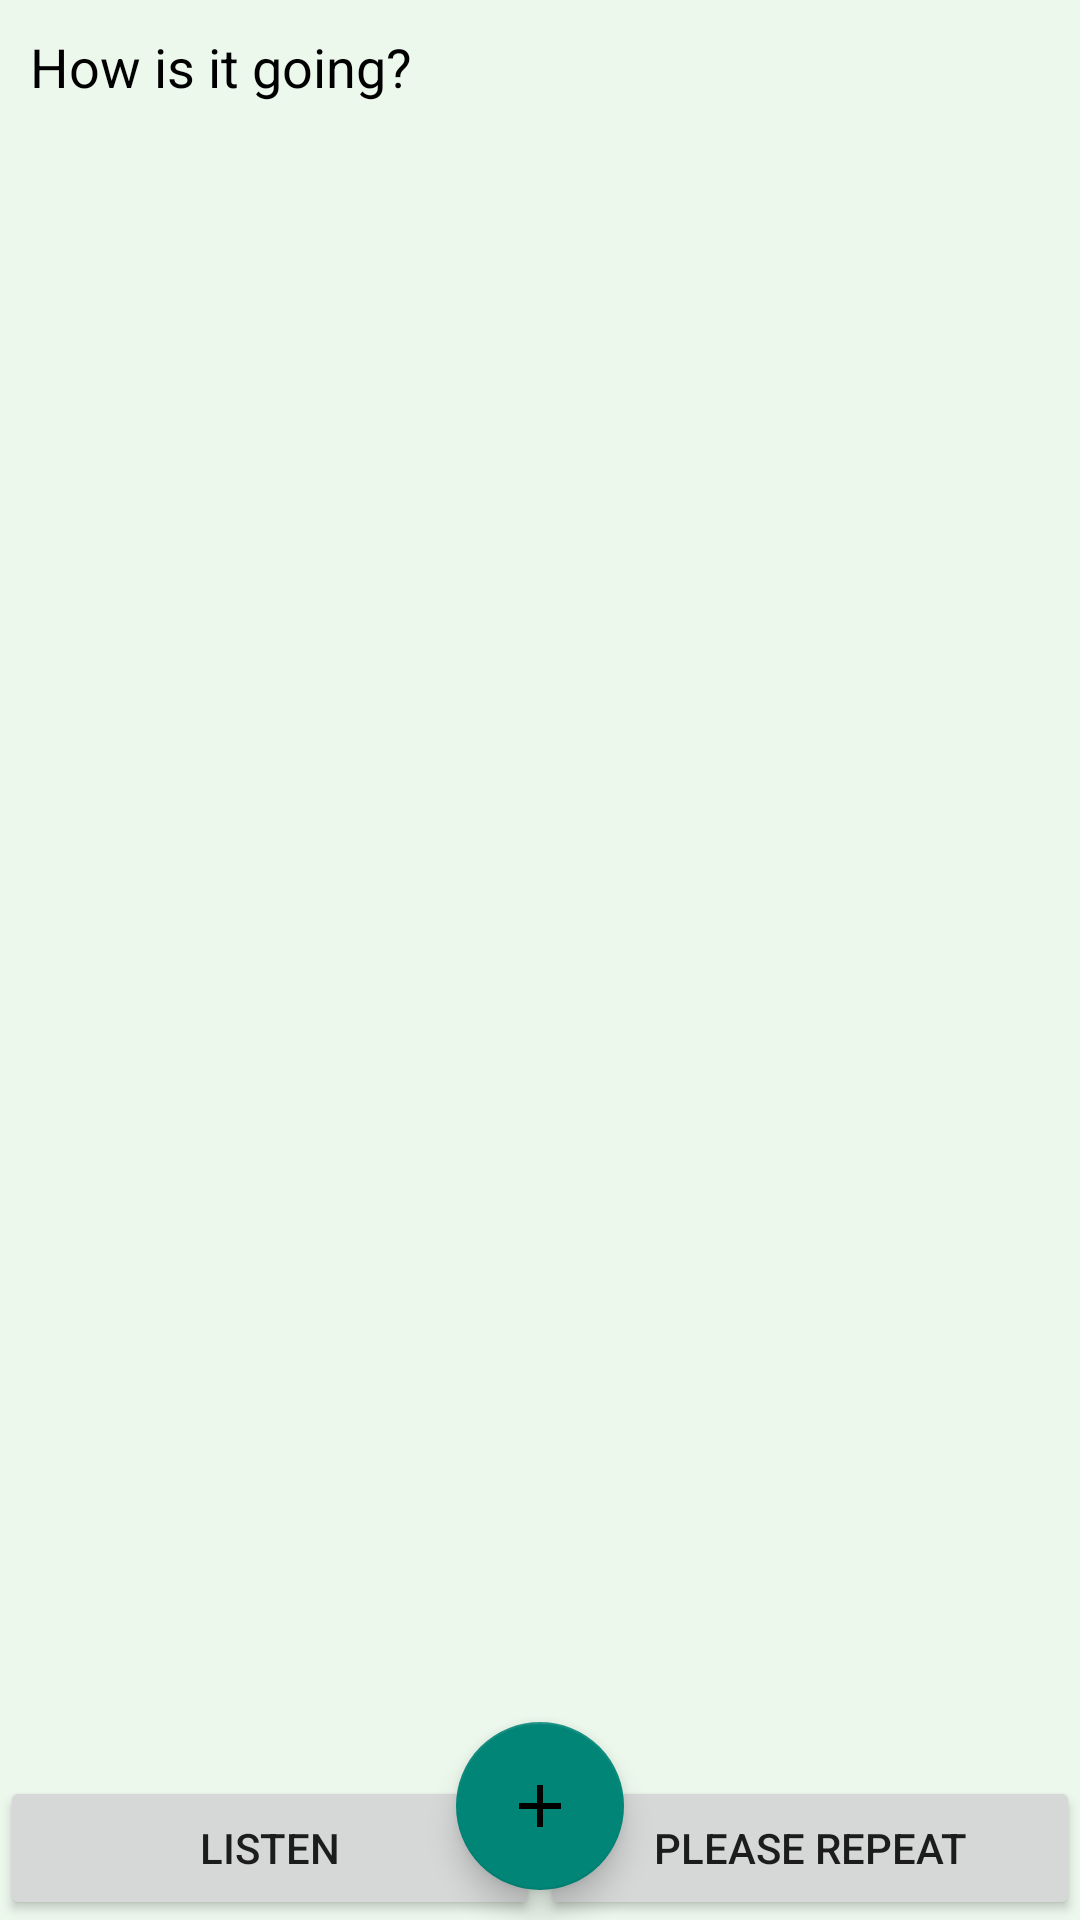

Icon click points for this 1080px x 1920px phone screenshot, format (x,y):
add: (540,1806)
